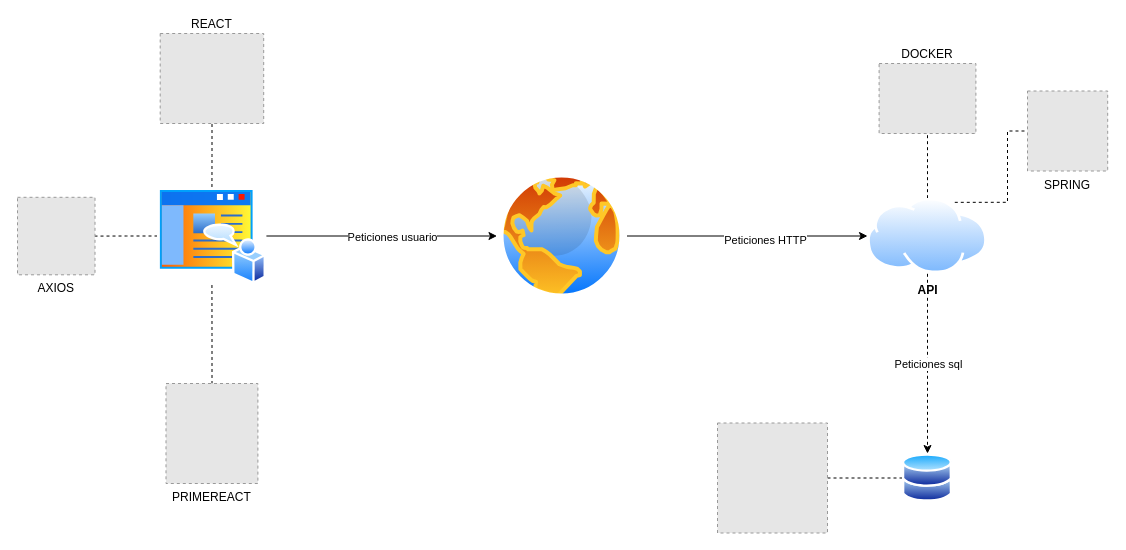
Some shapes in this 1126 by 550 pixel diagram are drawn without their labels. Grey dashed boxes stand in for pictures. Here are the shapes that lost their labels. From the top down, the centre of each, then its label:
At point 211,235: "BARteca".
At point 561,235: "RED".
At point 927,477: "BBDD".
